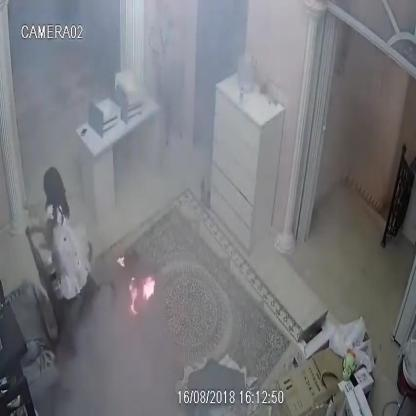fire: (130, 278, 154, 314)
